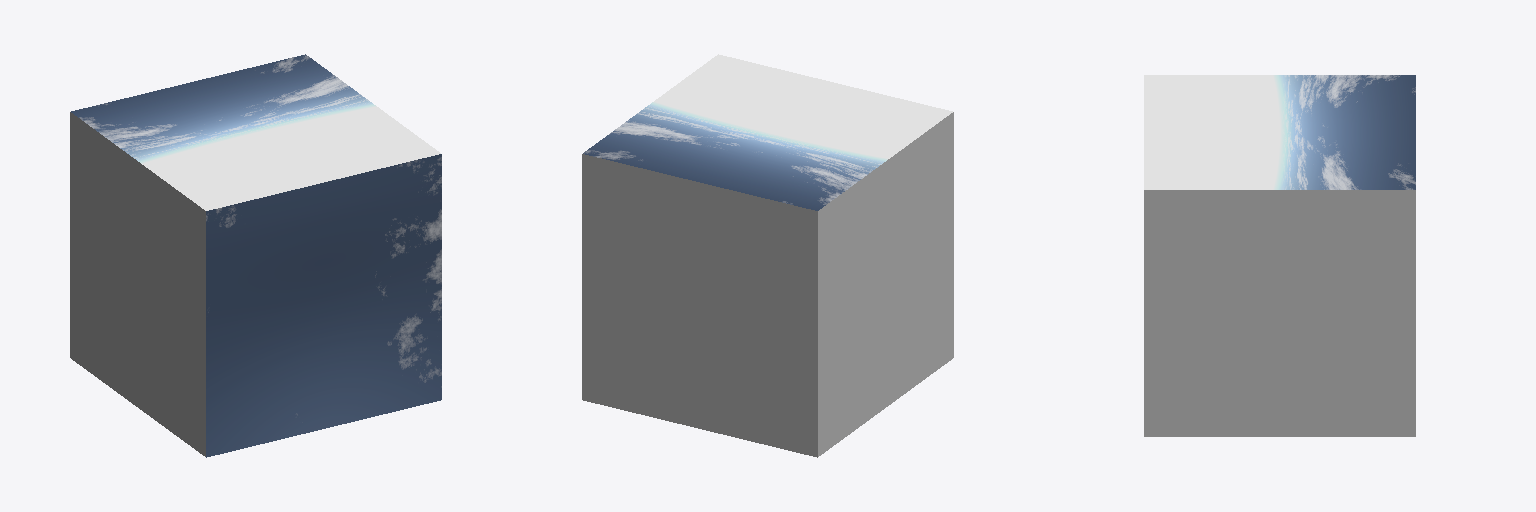
The picture shows the model from 3 angles: view 1: azimuth 30°, elevation 25°; view 2: azimuth 150°, elevation 25°; view 3: azimuth 270°, elevation 25°; orthographic projection.
Parts seen in each view (by area): view 1: Cube; view 2: Cube; view 3: Cube.
Part boxes in pixels (left/top/right/bottom): Cube: left=70, top=54, right=441, bottom=457; Cube: left=582, top=54, right=953, bottom=457; Cube: left=1144, top=75, right=1415, bottom=436.
Bounding box in the file's own units: 2000 × 2000 × 2000.
Materials: 6 (3 with a texture image).